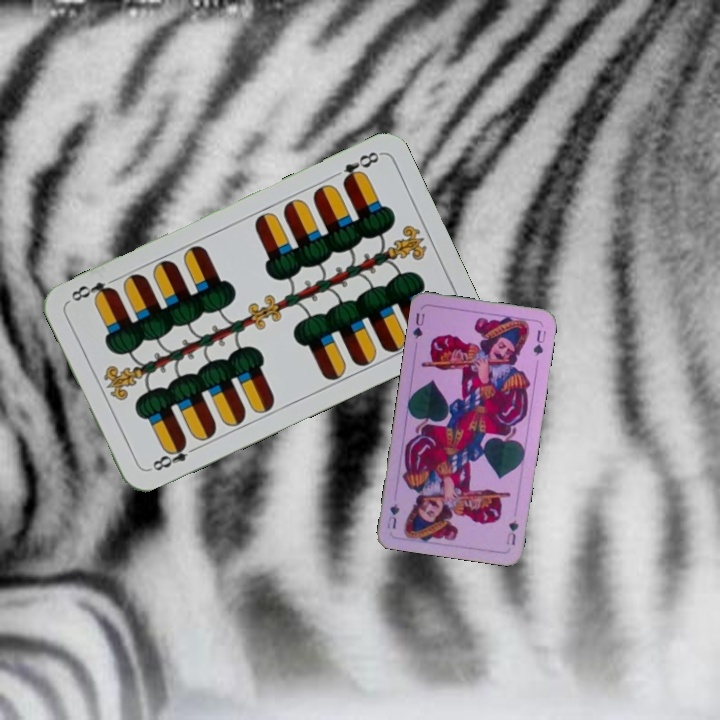E8: (144, 437, 200, 474), (338, 147, 383, 187)
GU: (502, 516, 521, 548), (409, 309, 427, 341)
